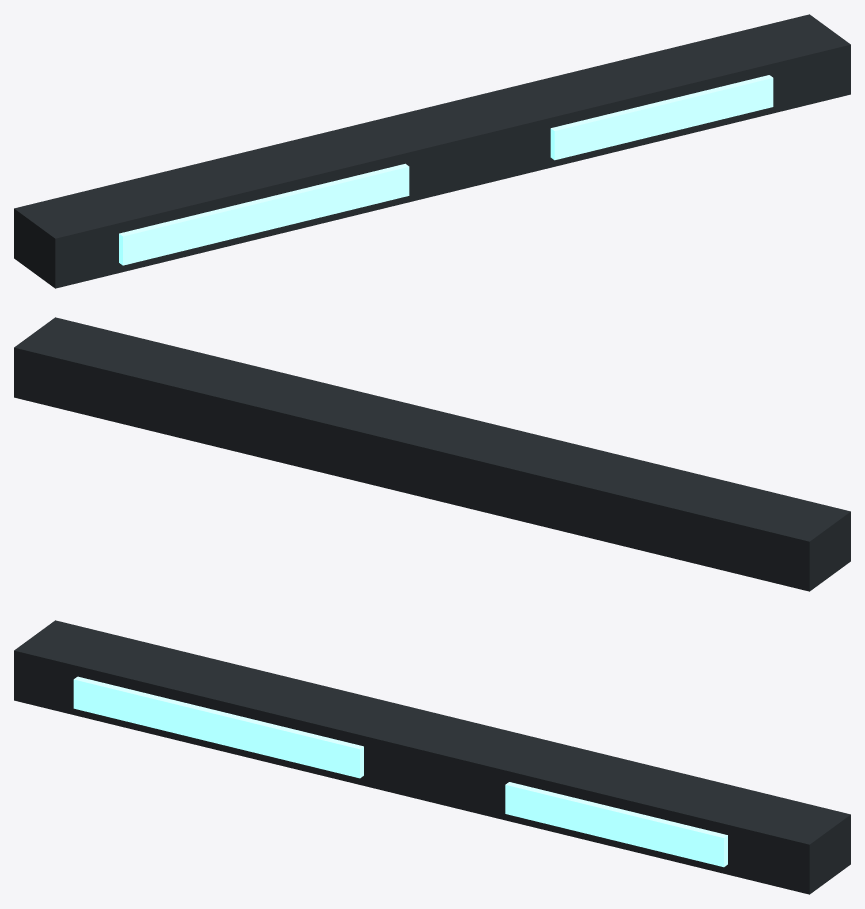
File: hp_light_ceiling_flicker_cyan_2m.glb
3 renders of one model, top to bottom at view 1: azimuth 30°, elevation 25°; view 2: azimuth 150°, elevation 25°; view 3: azimuth 330°, elevation 25°, orthographic.
Parts seen in each view (by area): view 1: ceiling_light_dark_housing, ceiling_light_cyan_lens_broken_a, ceiling_light_cyan_lens_broken_b; view 2: ceiling_light_dark_housing; view 3: ceiling_light_dark_housing, ceiling_light_cyan_lens_broken_a, ceiling_light_cyan_lens_broken_b.
Part boxes in pixels (x1,y1,x2,y2): ceiling_light_dark_housing: (14,14,850,288); ceiling_light_cyan_lens_broken_a: (119,163,409,265); ceiling_light_cyan_lens_broken_b: (550,75,773,160); ceiling_light_dark_housing: (14,317,850,591); ceiling_light_dark_housing: (14,620,850,894); ceiling_light_cyan_lens_broken_a: (73,676,363,778); ceiling_light_cyan_lens_broken_b: (505,782,727,867).
Size of the model in its own units: 2 by 0.12 by 0.1975.
